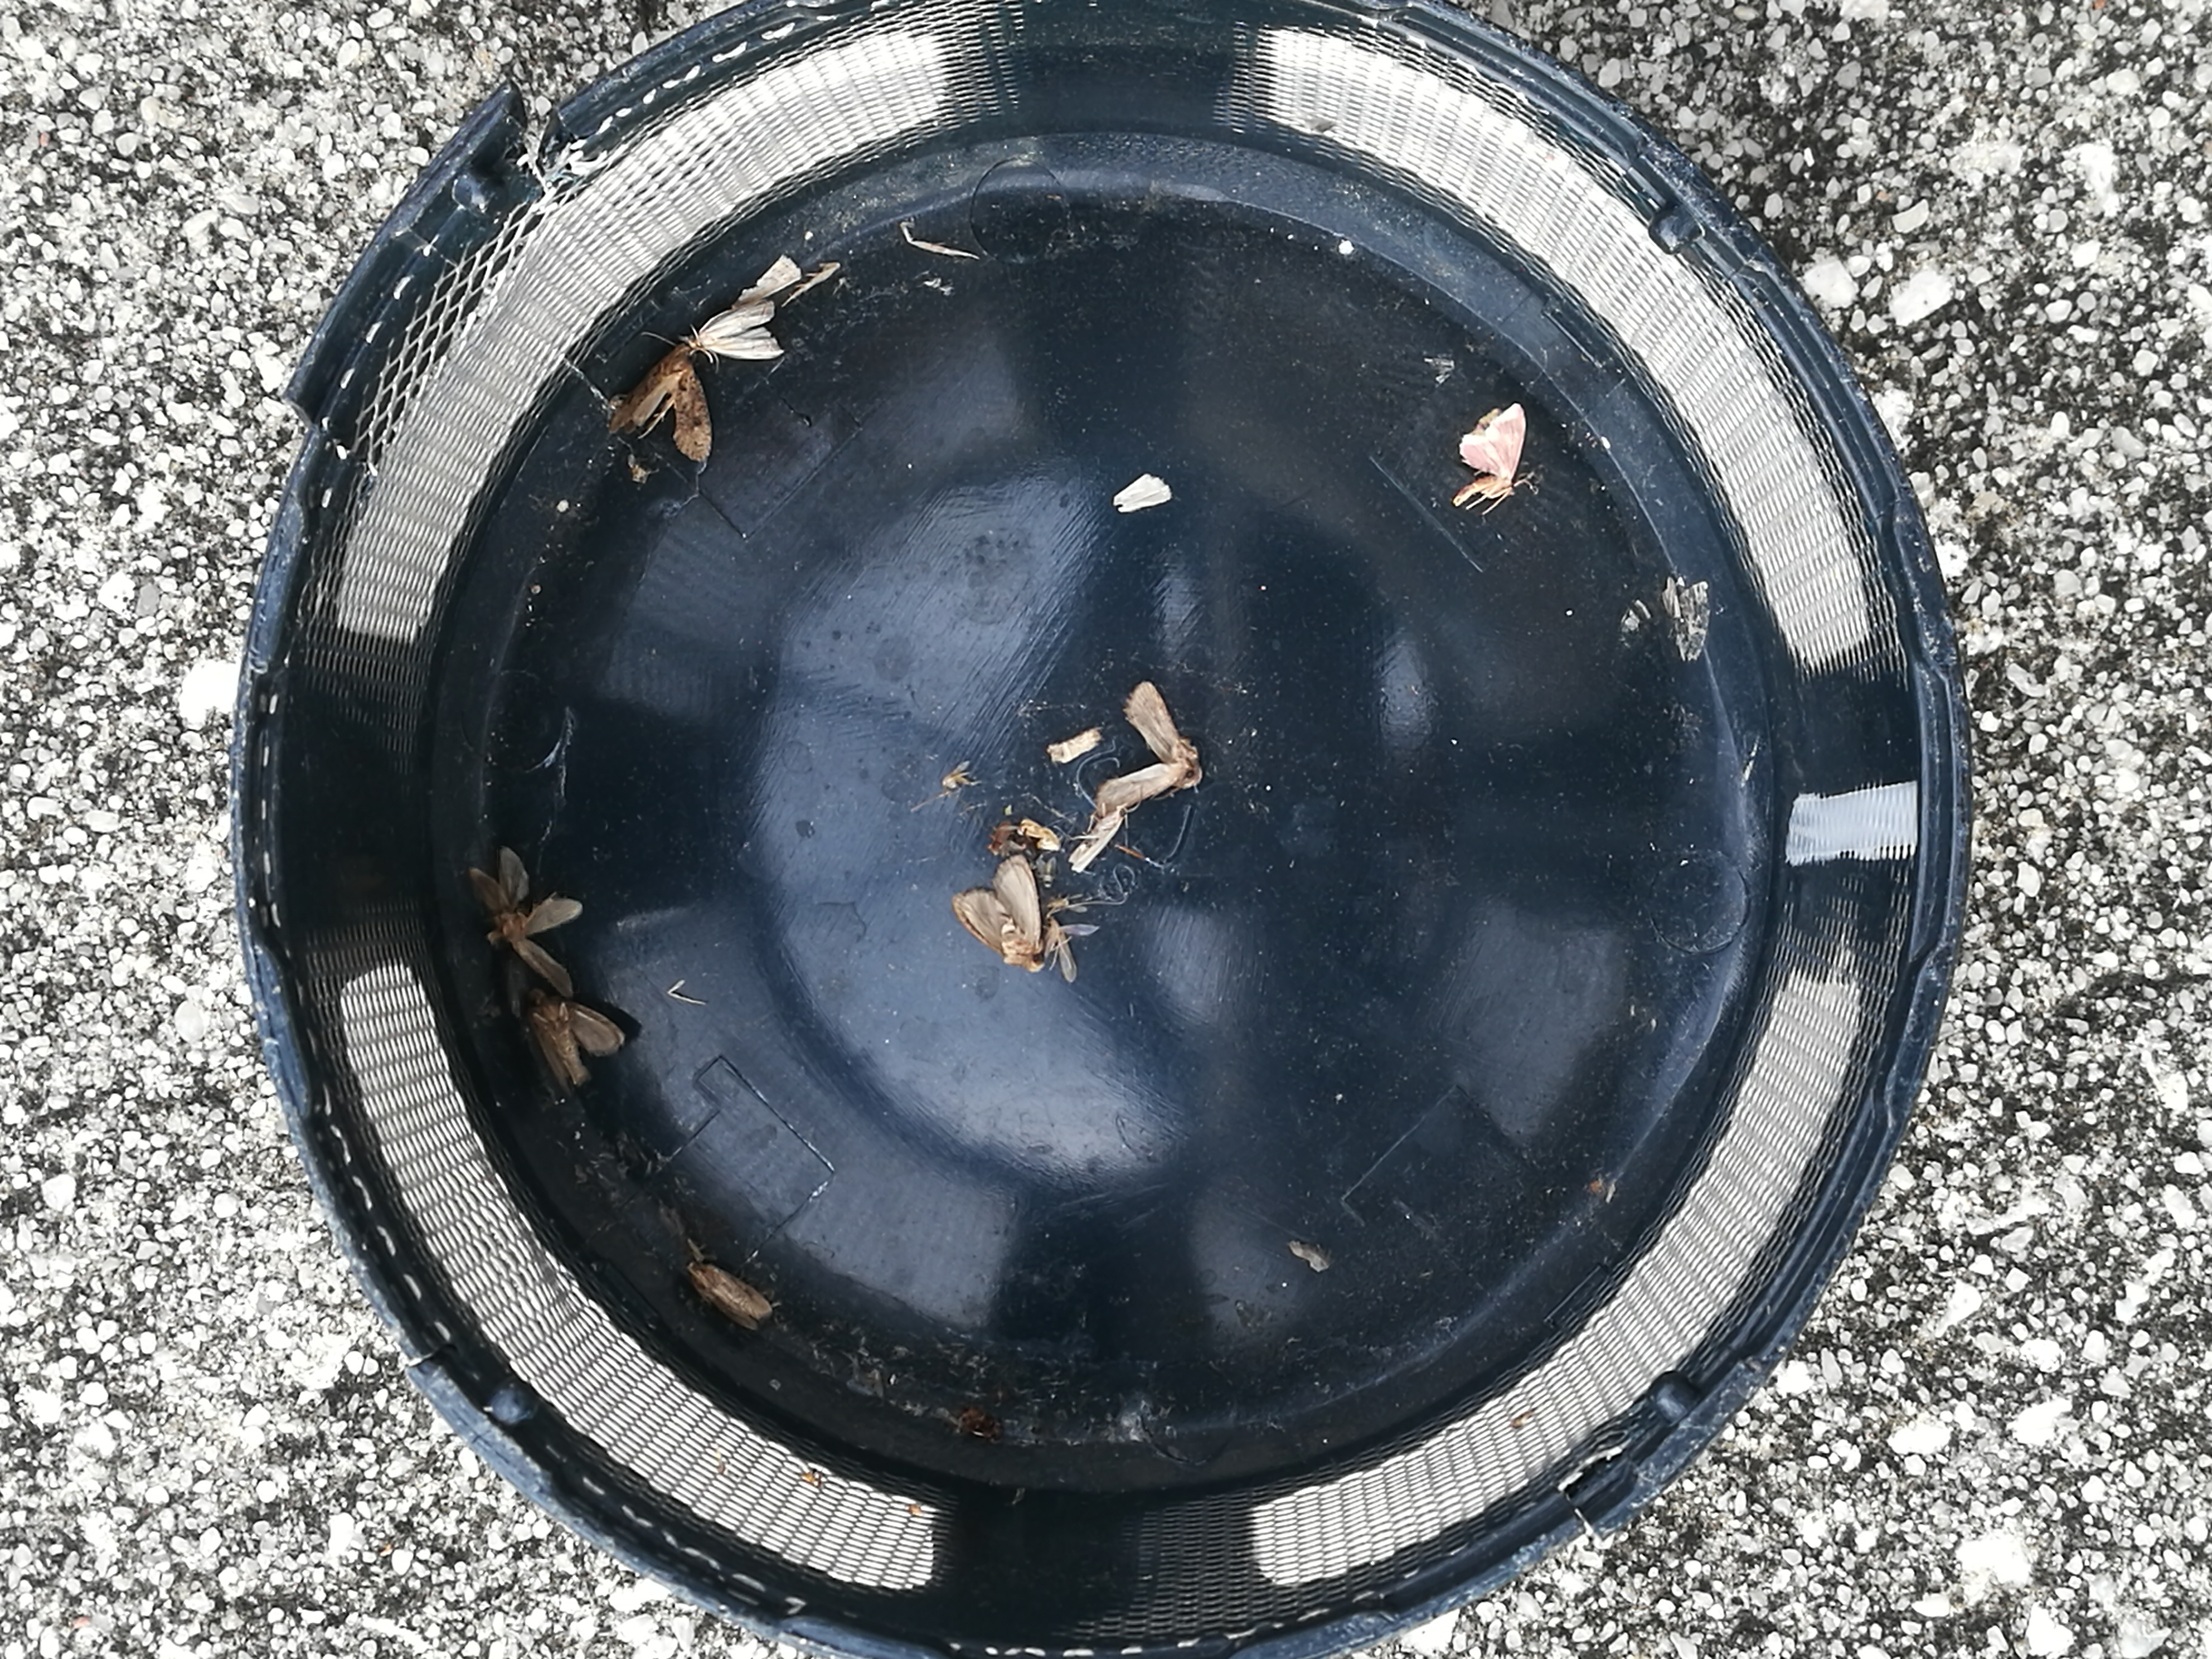mosquito: (686, 1262, 770, 1331)
moth: (470, 845, 582, 997), (1099, 680, 1200, 814), (606, 342, 709, 462), (953, 856, 1043, 971), (526, 990, 625, 1089), (1447, 406, 1526, 504), (702, 298, 784, 357)
